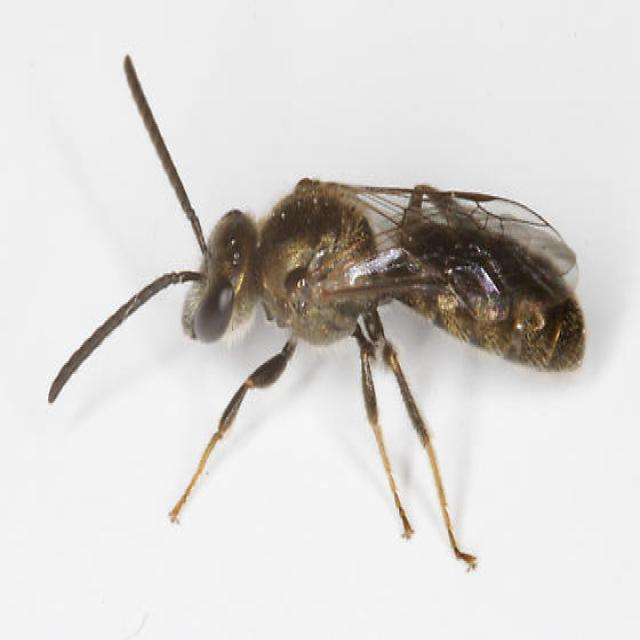Lasioglossum: (35, 46, 592, 594)
